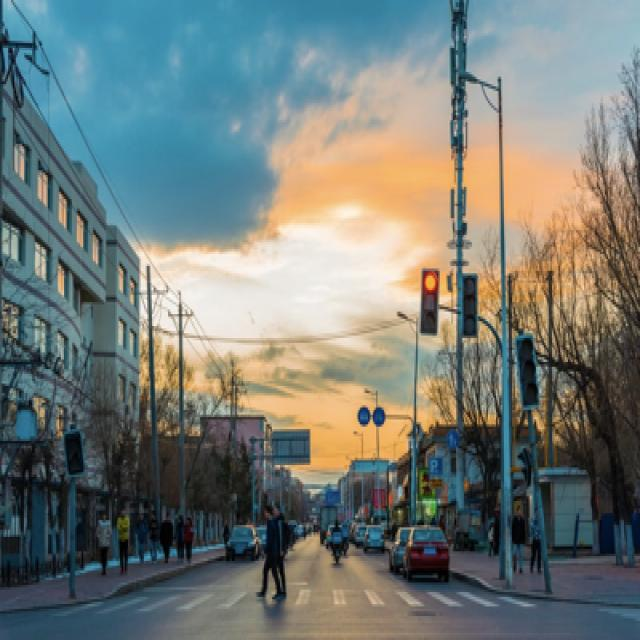trafficlight: (510, 326, 538, 410), (416, 259, 438, 335), (459, 271, 477, 335)
